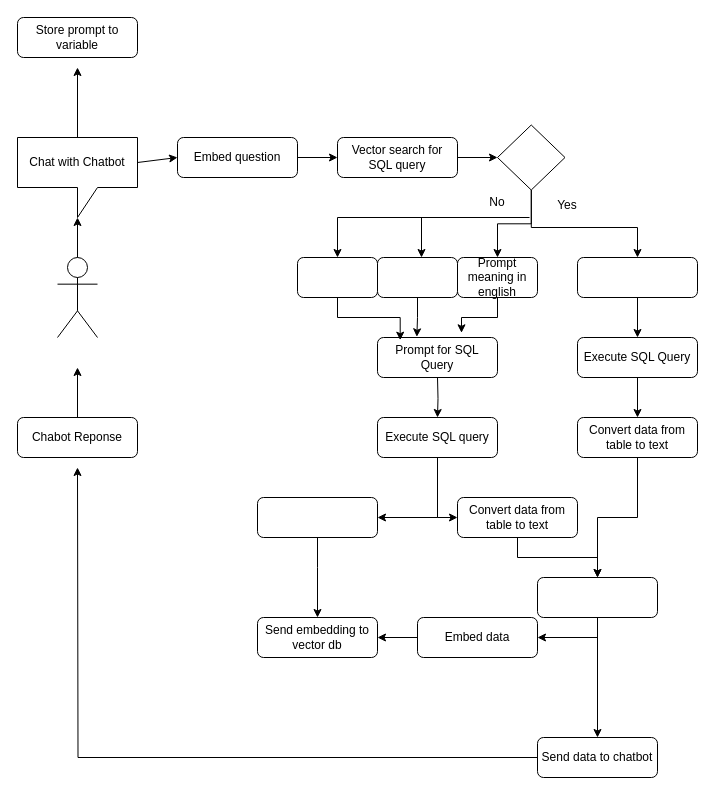
Some shapes in this 715 by 795 pixel diagram are drawn without their labels. The centre of each missing label's shape, as x and y in pixels:
Chunk data: [597,597]
Embed SQL Query: [317,517]
Fetch SQL Query: [637,277]
Found?: [530,157]
MySQL Dialect: [417,277]
Retrieve Schema: [337,277]
Start: [77,297]
